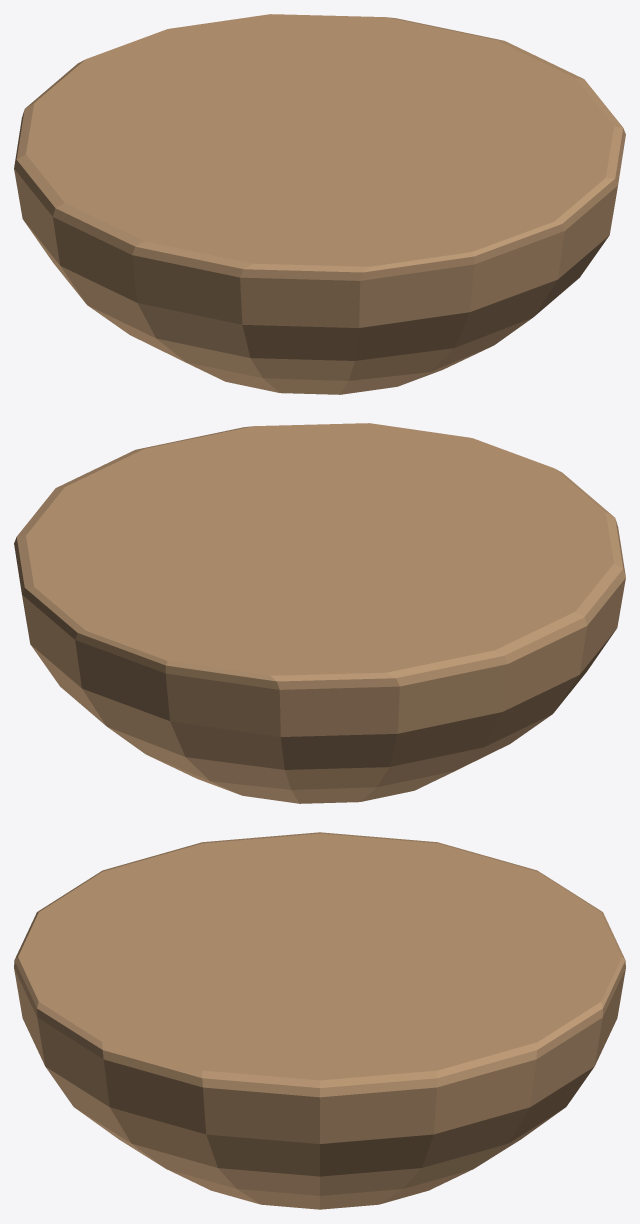
The model's file is bread_cutbottom.fbx.
3 views of the same model, one above another, from view 1: azimuth 30°, elevation 25°; view 2: azimuth 150°, elevation 25°; view 3: azimuth 270°, elevation 25° (orthographic).
Visible parts, largest first — view 1: bread_cutbottom; view 2: bread_cutbottom; view 3: bread_cutbottom.
Part boxes in pixels (<box>): bread_cutbottom: <box>14,14,625,394</box>; bread_cutbottom: <box>14,423,625,803</box>; bread_cutbottom: <box>14,832,625,1209</box>.
Size of the model in its own units: 199 by 77.24 by 199.
